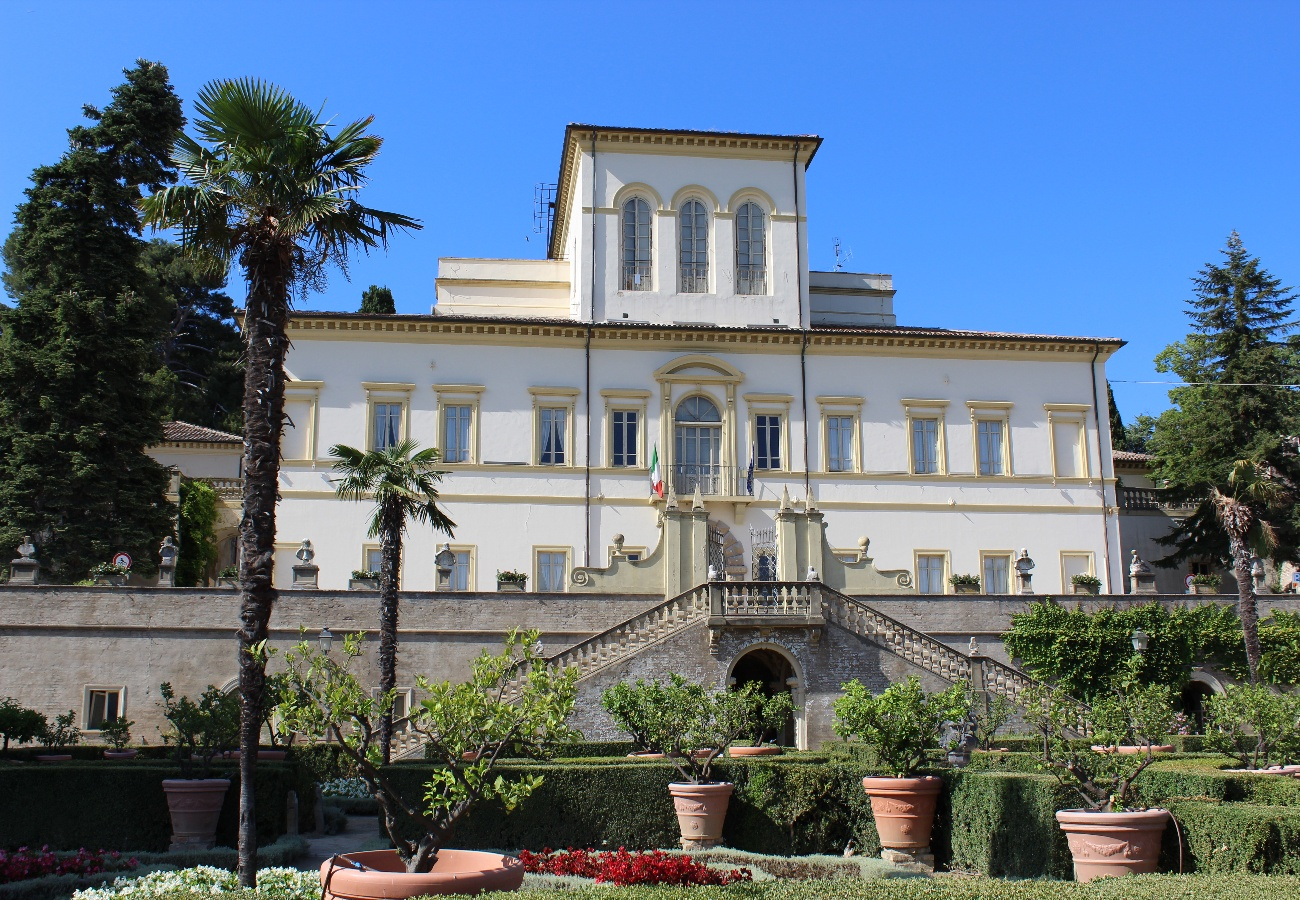Villa Caprile: (239, 123, 1134, 597)
